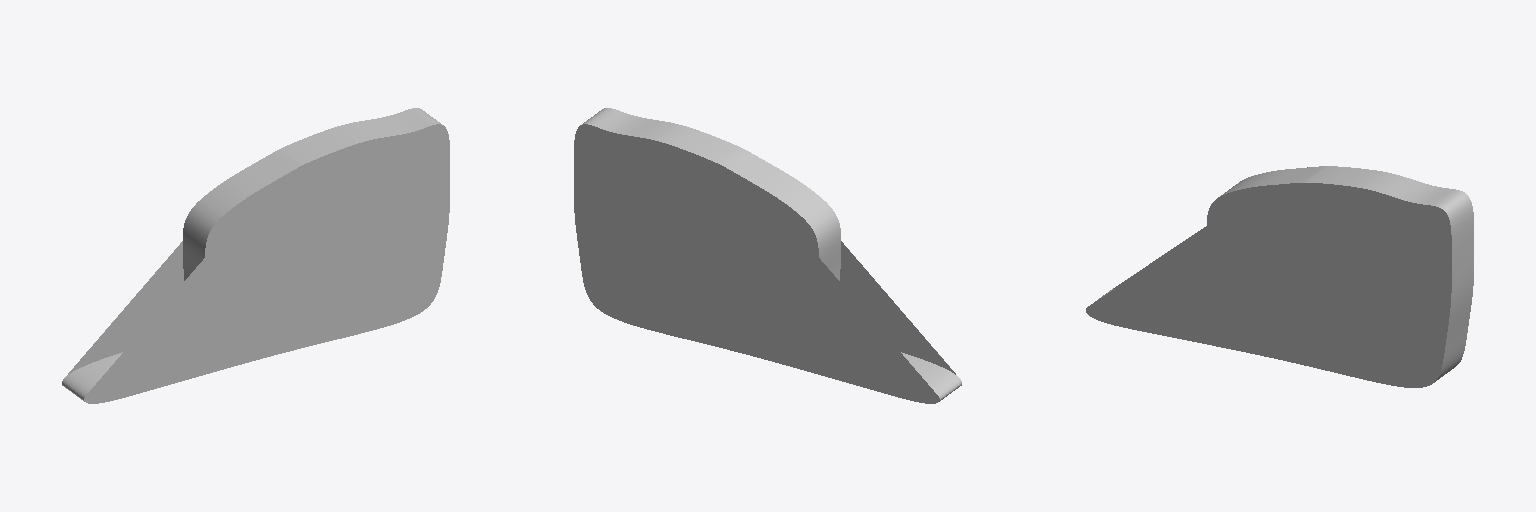
3 views of the same model, side by side, from view 1: azimuth 30°, elevation 25°; view 2: azimuth 150°, elevation 25°; view 3: azimuth 330°, elevation 25° (orthographic).
Visible parts, largest first — view 1: 平面; view 2: 平面; view 3: 平面.
Boxes of the visible parts, x1=… form: 平面: x1=62, y1=108, x2=449, y2=403; 平面: x1=574, y1=108, x2=961, y2=403; 平面: x1=1086, y1=166, x2=1473, y2=387.
Bounding box in the file's own units: 1.88 × 0.97 × 0.2.